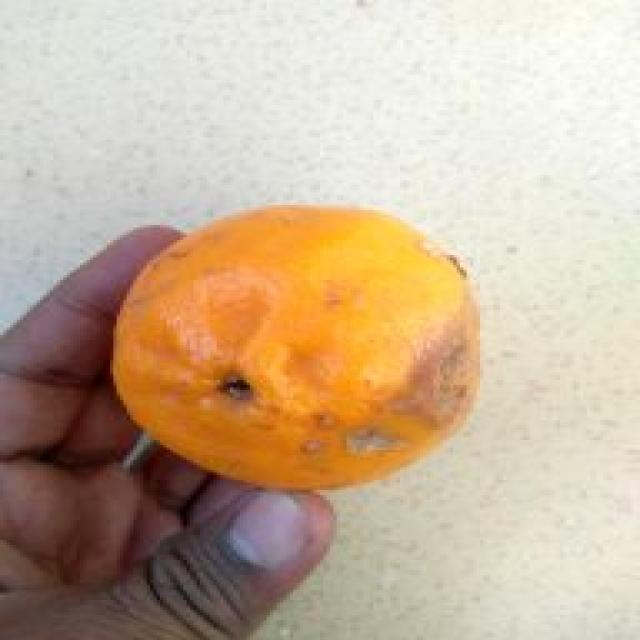Bad_Orange: (113, 206, 478, 488)
